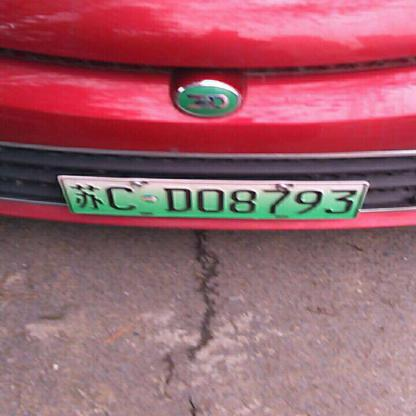lp: (60, 177, 367, 218)
